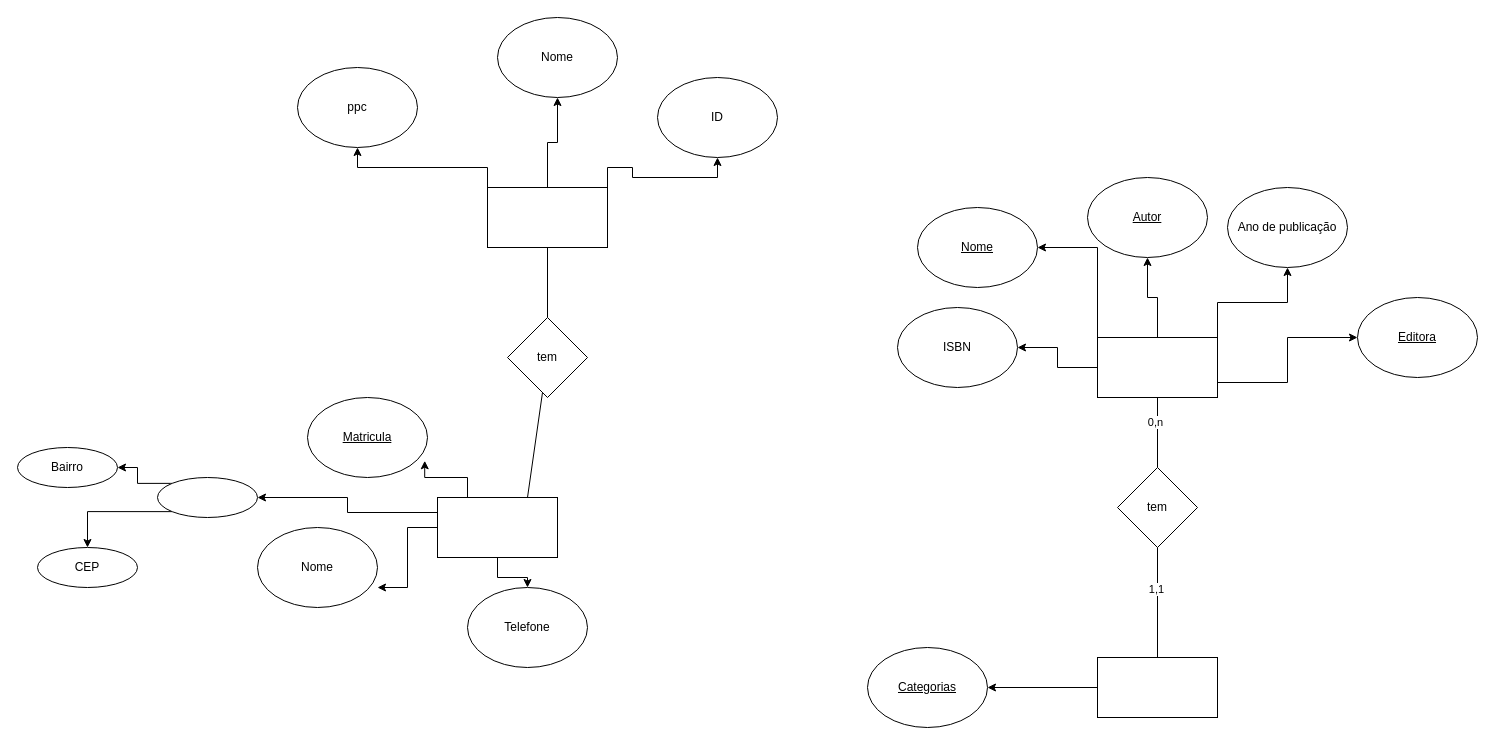
The diagram is 1495 pixels wide and 745 high, and some of its shapes have lost their labels. Each missing label, with the centre of its shape:
Aluno: the point at 497,527
Endereço: the point at 207,497
Livro: the point at 1157,367
Turma: the point at 547,217
Área: the point at 1157,687
